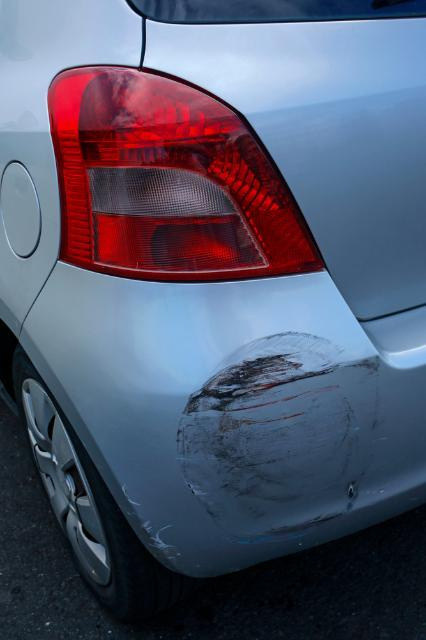scratch: (174, 330, 390, 546), (120, 488, 178, 563)
